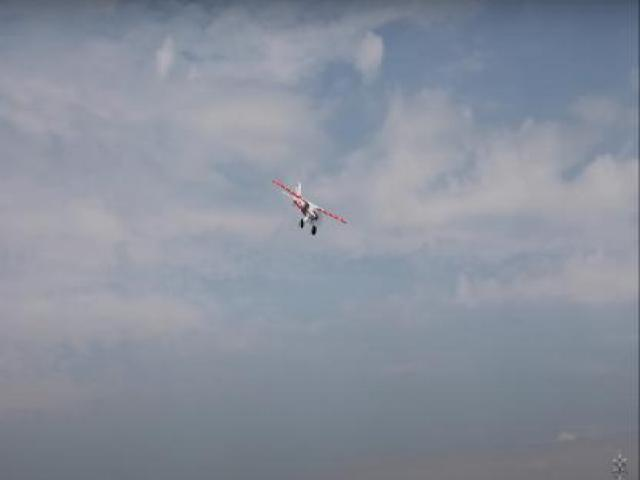uav: (268, 170, 350, 238)
